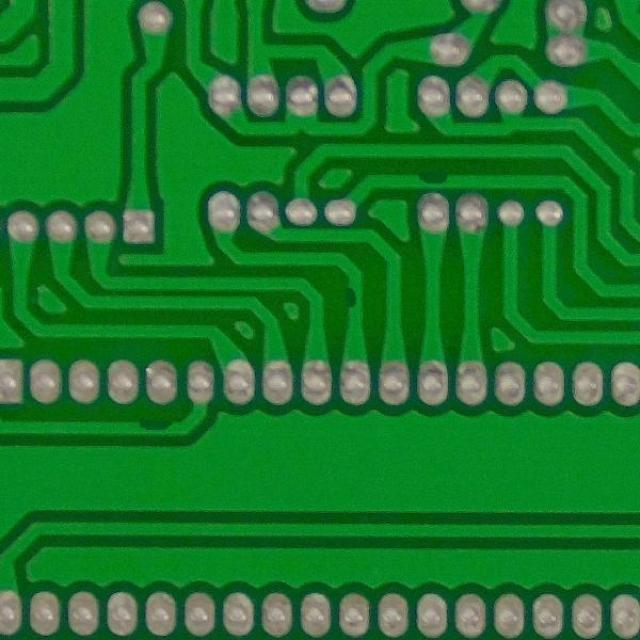MouseBite: (126, 418, 186, 441), (408, 170, 460, 192), (341, 282, 367, 316)
